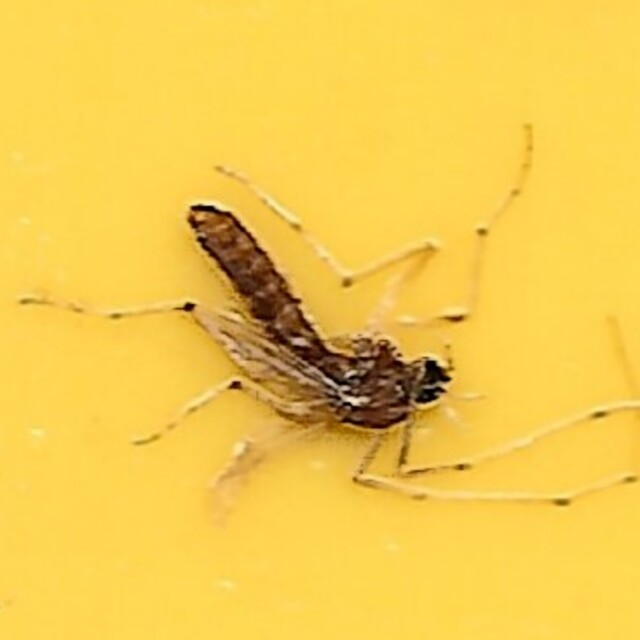Nematocera: (174, 189, 466, 451)
